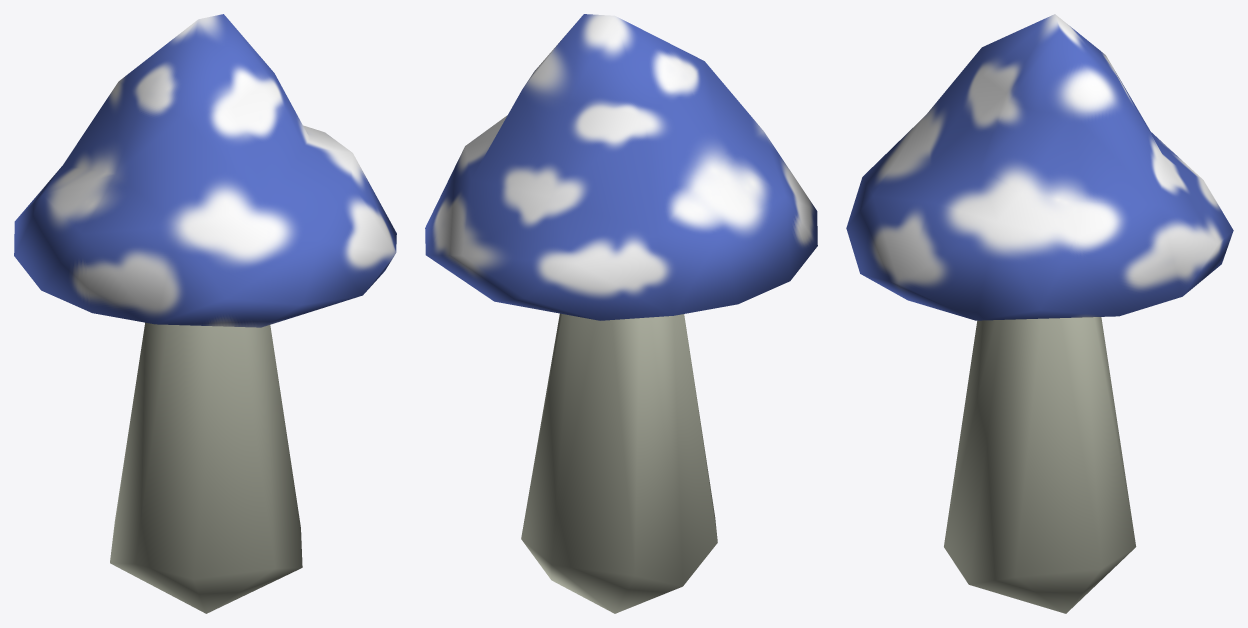
The model's file is Shroom.fbx.
3 views of the same model, side by side, from view 1: azimuth 30°, elevation 25°; view 2: azimuth 150°, elevation 25°; view 3: azimuth 270°, elevation 25° (orthographic).
Parts seen in each view (by area): view 1: Cube; view 2: Cube; view 3: Cube.
Boxes of the visible parts, bbox=[...] form: Cube: bbox=[14, 14, 396, 613]; Cube: bbox=[425, 14, 817, 613]; Cube: bbox=[846, 14, 1233, 613].
Size of the model in its own units: 1.9 by 3.12 by 1.9.
